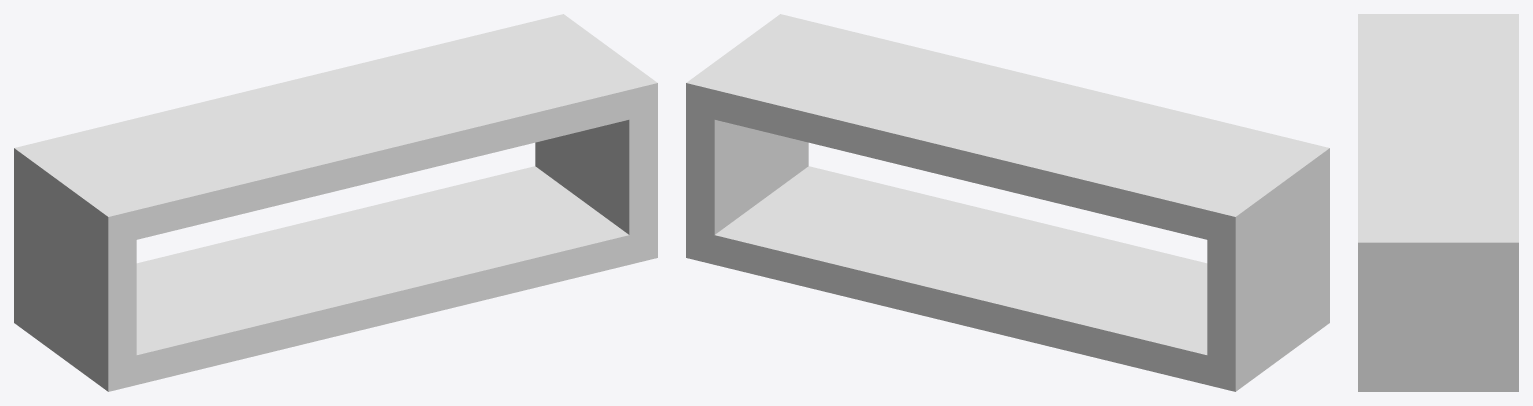
The model's file is Prop_WallShelf_09.fbx.
The picture shows the model from 3 angles, left to right: view 1: azimuth 30°, elevation 25°; view 2: azimuth 150°, elevation 25°; view 3: azimuth 270°, elevation 25°; orthographic projection. The views are drawn at different scales.
Parts seen in each view (by area): view 1: Prop_WallShelf_09__20_; view 2: Prop_WallShelf_09__20_; view 3: Prop_WallShelf_09__20_.
Part boxes in pixels (x1,y1,x2,y2): Prop_WallShelf_09__20_: [14, 14, 657, 391]; Prop_WallShelf_09__20_: [686, 14, 1329, 391]; Prop_WallShelf_09__20_: [1358, 14, 1518, 391].
Size of the model in its own units: 36.57 by 11.13 by 10.87.
Materials: 1 (1 with a texture image).
